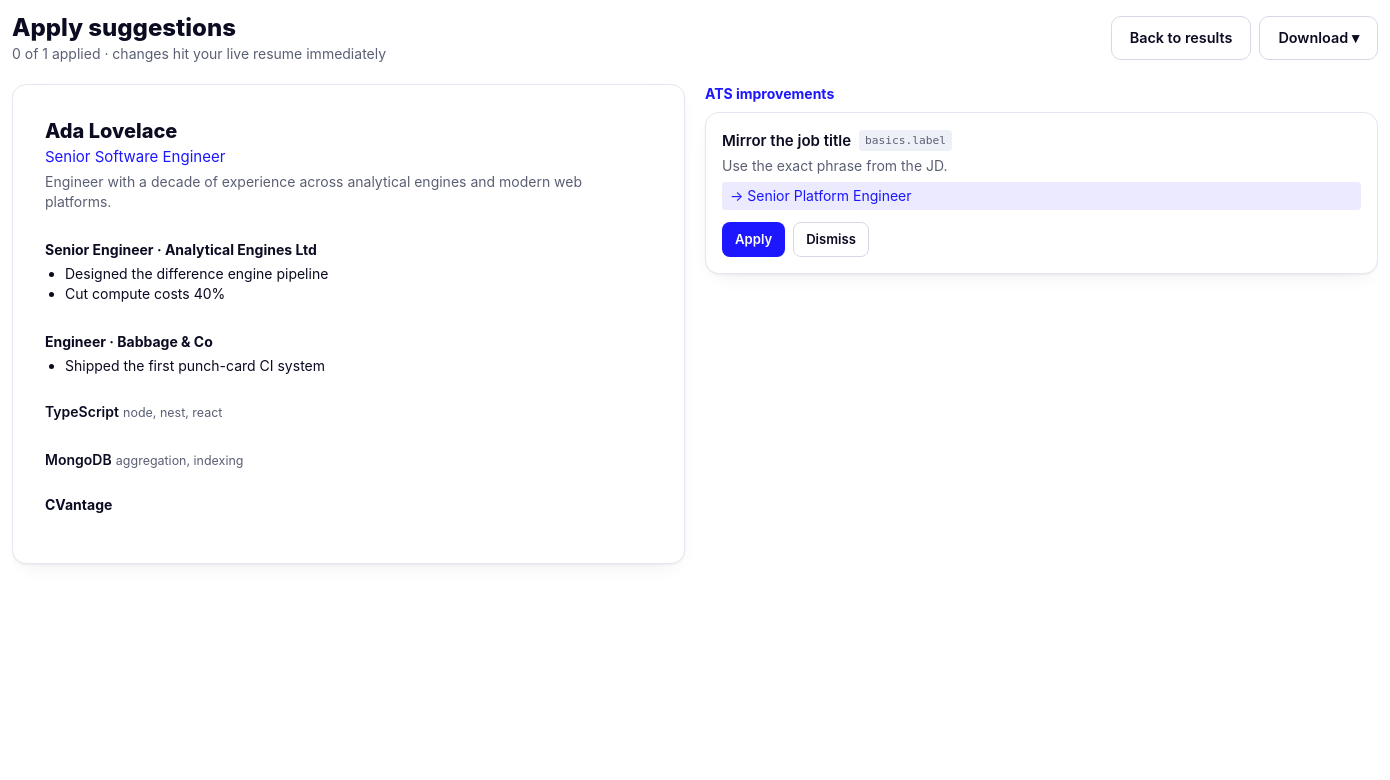
Test: apply flow (issue #75 / 8.11) › 409 conflict toasts and refreshes; download menu is live
The image size is (1390, 780).
Check: the text "Mirror the job title" is shown, box [722,129,851,152]
Click the button "Apply". click: click(754, 239)
box: [722,222,785,257]
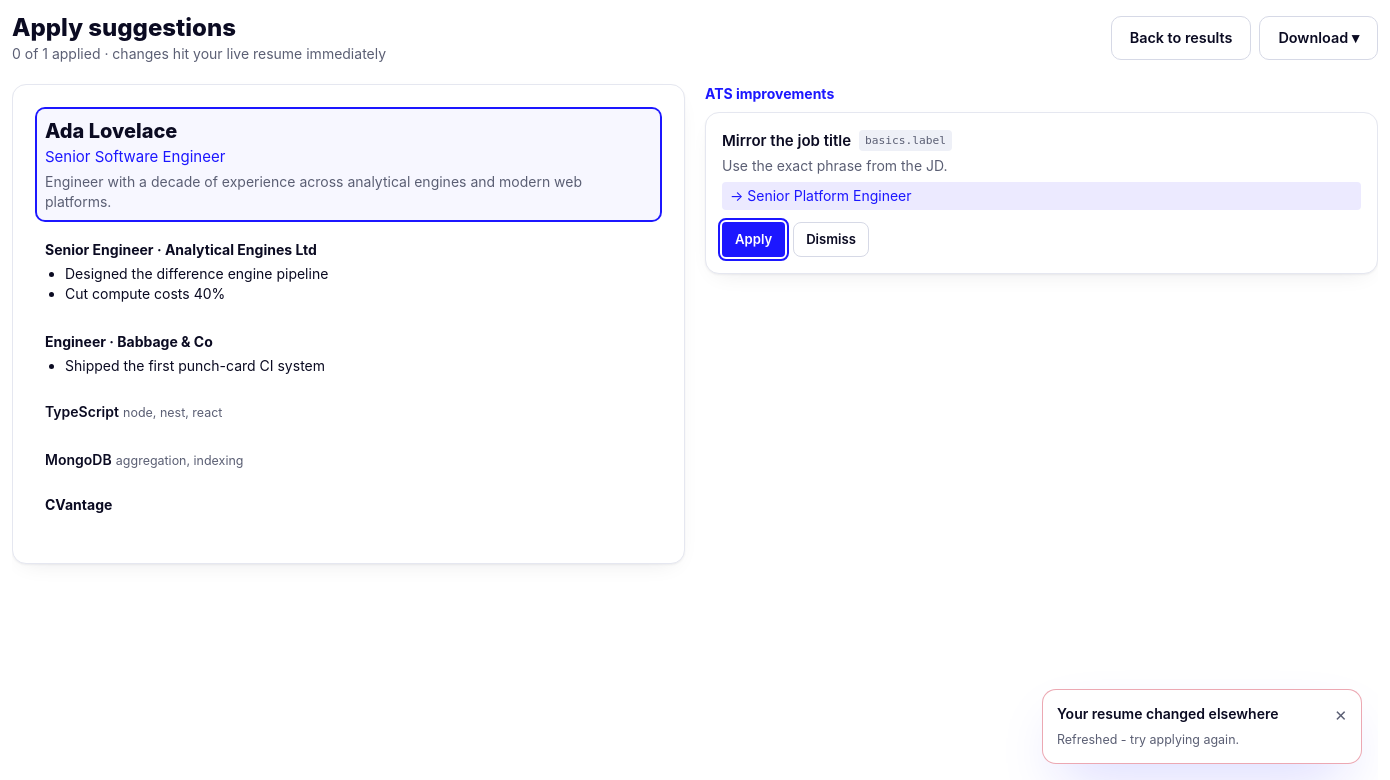
Check: the button "Download ▾" is enabled, box [1259,16,1378,60]
Check: the text "Your resume changed elsewhere" is shown, box [1057,704,1278,724]
